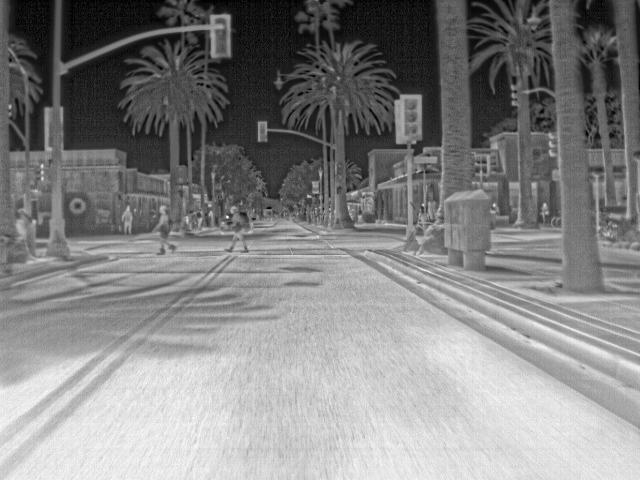car: (218, 211, 227, 232), (250, 213, 258, 222)
person: (150, 204, 176, 255), (227, 204, 247, 254), (119, 204, 133, 234), (539, 203, 551, 224), (490, 200, 504, 216), (195, 206, 204, 230), (356, 204, 363, 223)
